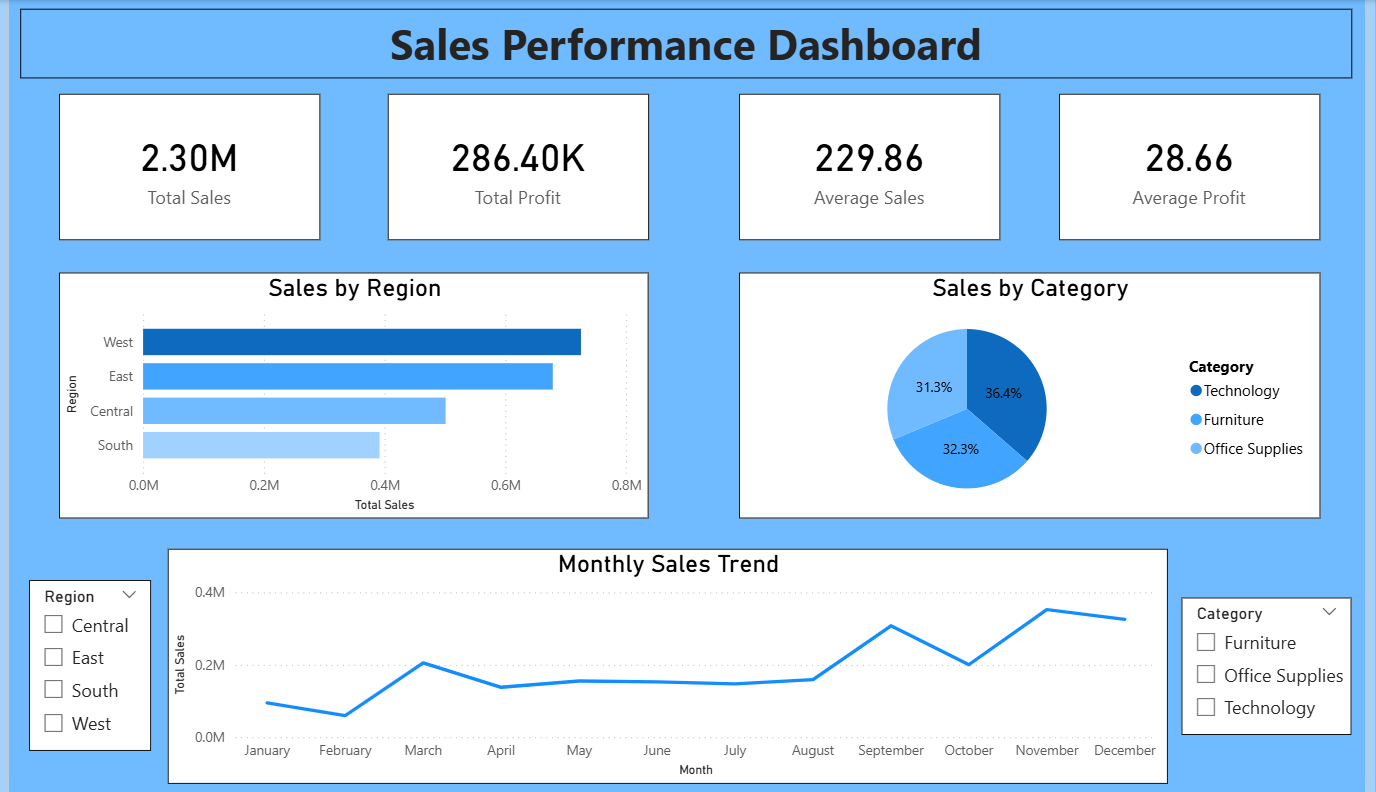

The dashboard page shown, as its layout file describes it:
{"tool":"powerbi","page":{"name":"Sales Dashboard","canvas":[1200,702],"ordinal":0},"visuals":[{"type":"textbox","box":[10.1,7.8,1178.2,61.6],"z":0},{"type":"card","fields":{"Values":["Superstore_data.Total_Sales"]},"box":[44.2,82.9,231.1,129.4],"z":1000},{"type":"card","fields":{"Values":["Superstore_data.Total Profit"]},"box":[335.1,82.9,231.1,129.4],"z":2000},{"type":"card","fields":{"Values":["Superstore_data.Average Sales"]},"box":[645.8,82.9,231.1,129.4],"z":3000},{"type":"card","fields":{"Values":["Superstore_data.Average Profit"]},"box":[928.9,82.9,231.1,129.4],"z":4000},{"type":"barChart","title":"Sales by Region","fields":{"Y":["Sum(Superstore_data.Sales)"],"Category":["Superstore_data.Region"]},"box":[44.2,241.1,522,217.9],"z":5000},{"type":"pieChart","title":"Sales by Category","fields":{"Y":["Sum(Superstore_data.Sales)"],"Category":["Superstore_data.Category"]},"box":[645.8,241.1,514.2,217.9],"z":6000},{"type":"lineChart","title":"Monthly Sales Trend","fields":{"Category":["Superstore_data.Order Date.Variation.Date Hierarchy.Month"],"Y":["Sum(Superstore_data.Sales)"]},"box":[140.4,485.5,884.7,207.9],"z":7000},{"type":"slicer","fields":{"Values":["Superstore_data.Region"]},"box":[17.7,513.1,108.4,151.5],"z":8000},{"type":"slicer","fields":{"Values":["Superstore_data.Category"]},"box":[1037.3,528.6,150.4,121.6],"z":9000}]}

Visuals, with their boxes in screenshot pixels (x1, y1, x2, y2), scaled from the page's 1200x702 canvas onto the 1376x792 screenshot:
textbox: crop(12, 9, 1363, 78)
card - Superstore_data.Total_Sales: crop(51, 94, 316, 240)
card - Superstore_data.Total Profit: crop(384, 94, 649, 240)
card - Superstore_data.Average Sales: crop(741, 94, 1006, 240)
card - Superstore_data.Average Profit: crop(1065, 94, 1330, 240)
"Sales by Region" barChart: crop(51, 272, 649, 518)
"Sales by Category" pieChart: crop(741, 272, 1330, 518)
"Monthly Sales Trend" lineChart: crop(161, 548, 1175, 782)
slicer - Superstore_data.Region: crop(20, 579, 145, 750)
slicer - Superstore_data.Category: crop(1189, 596, 1362, 734)
